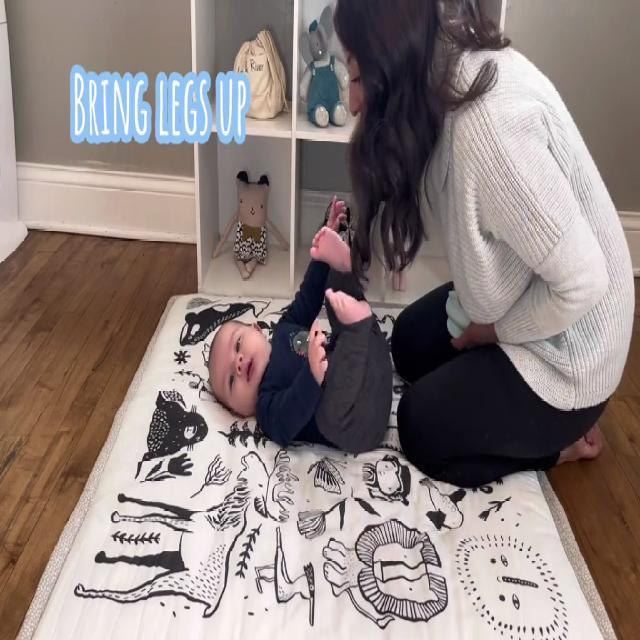baby: (205, 188, 398, 448)
